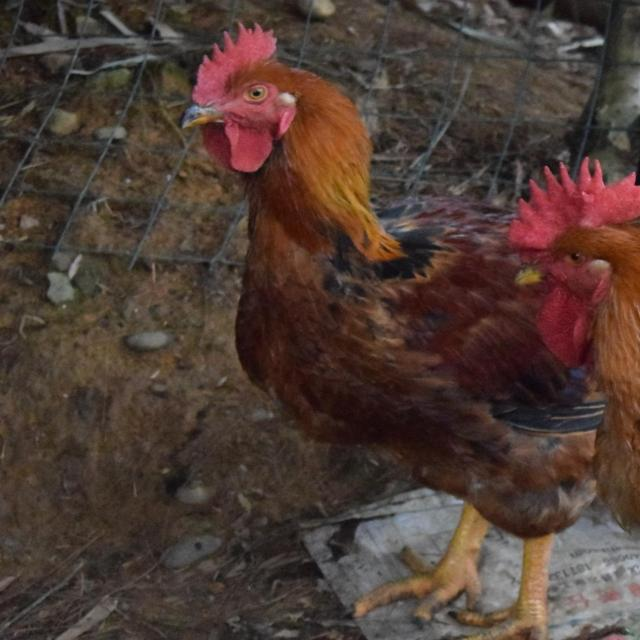cook: (184, 26, 605, 639), (509, 160, 640, 525)
